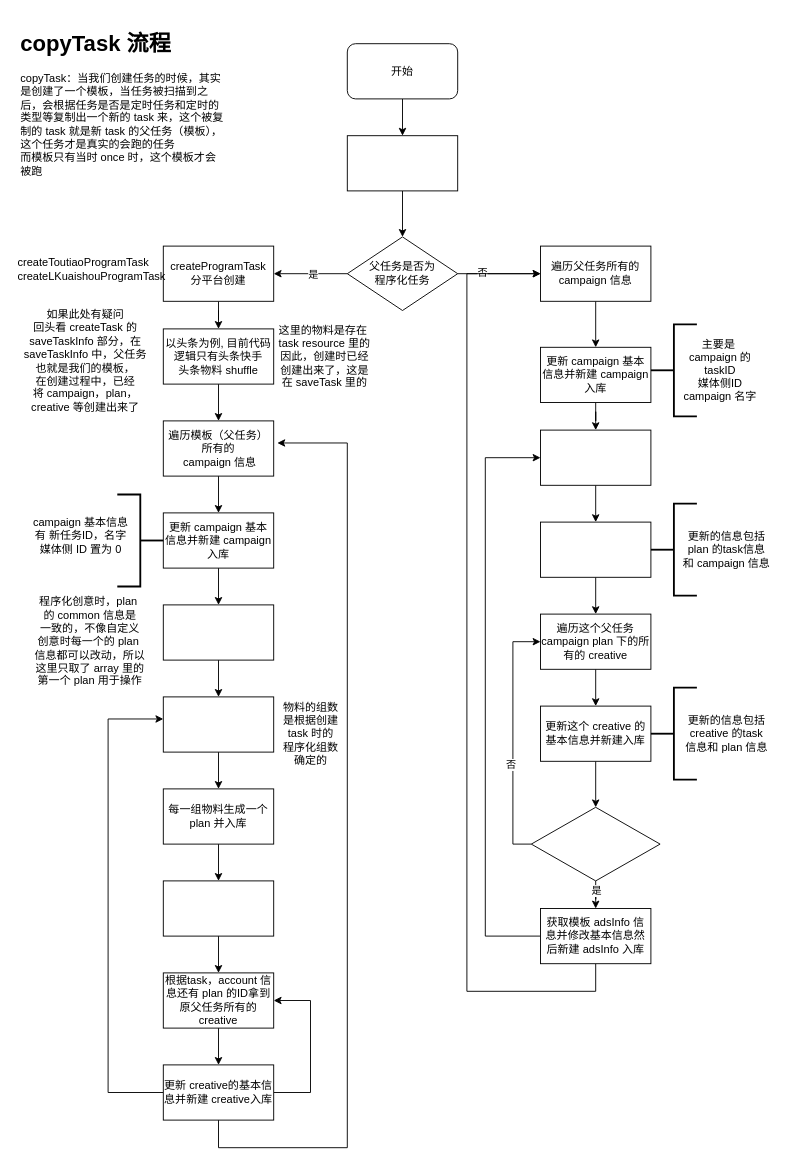
Some shapes in this 792 by 1171 pixel diagram are drawn without their labels. Each missing label, with the centre of its shape:
修改物料对应的 task ID 为 copyTaskID 并新建物料入库: pixel 218 908
准备最基本的 taskInfo 并创建 task progress 入库: pixel 402 163
判断父任务（模板） 是否为广点通: pixel 595 843
更新这个 plan 的基本信息并新建 plan 入库: pixel 595 549
选取程序化任务 给定的一个 plan: pixel 218 632
遍历 shuffle 好的物料: pixel 218 724
遍历这个 campaign 下的 plan 信息: pixel 595 457
